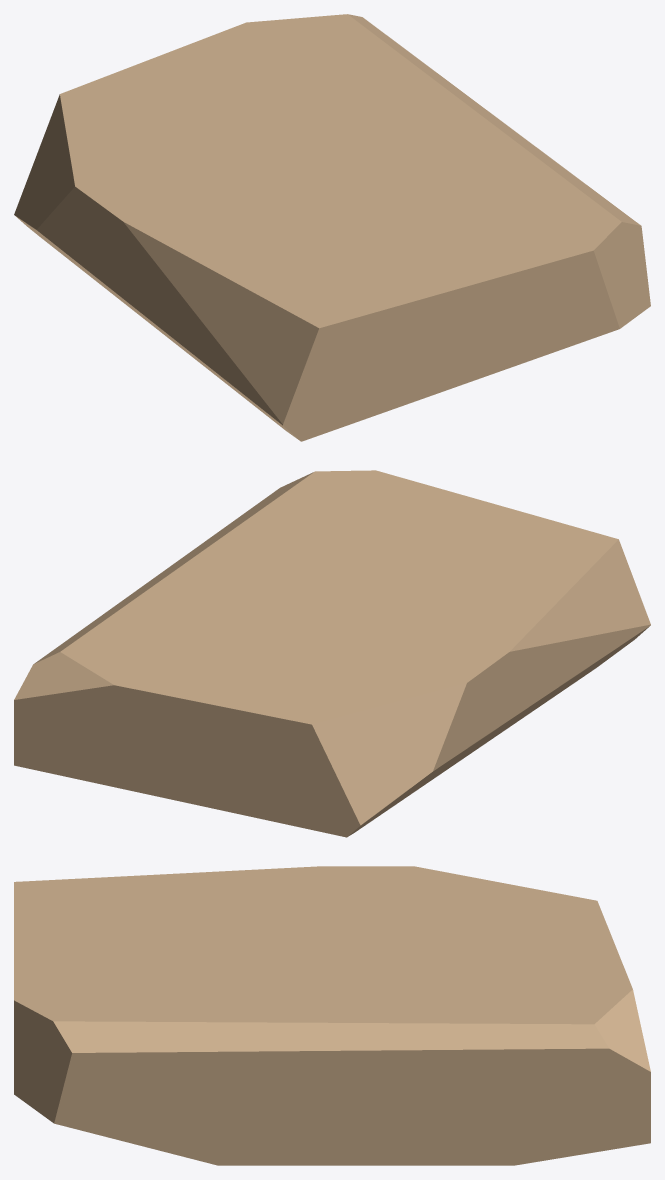
Rendered from Rock_Flat_m_05.fbx.
3 views of the same model, one above another, from view 1: azimuth 30°, elevation 25°; view 2: azimuth 150°, elevation 25°; view 3: azimuth 270°, elevation 25° (orthographic). The views are drawn at different scales.
Visible parts, largest first — view 1: Rock_Flat_m_05; view 2: Rock_Flat_m_05; view 3: Rock_Flat_m_05.
Part boxes in pixels (x1=…): Rock_Flat_m_05: x1=14, y1=14, x2=650, y2=441; Rock_Flat_m_05: x1=14, y1=470, x2=650, y2=837; Rock_Flat_m_05: x1=14, y1=866, x2=650, y2=1165.
Size of the model in its own units: 80.03 by 26.72 by 118.
